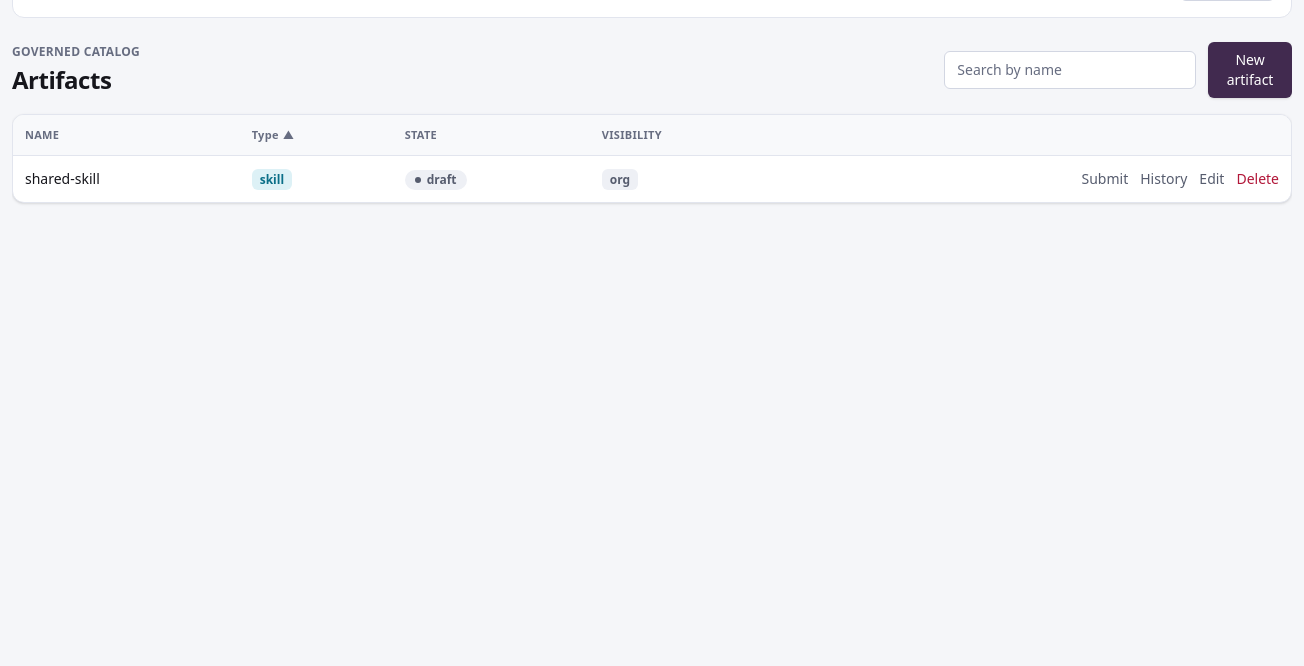
Test case: one grant reads as one grant
The width and height of the screenshot is (1304, 666).
Click the button with aria-label "edit shared-skill".
click(1212, 179)  # box [1199,169,1224,189]
(page scrolled)
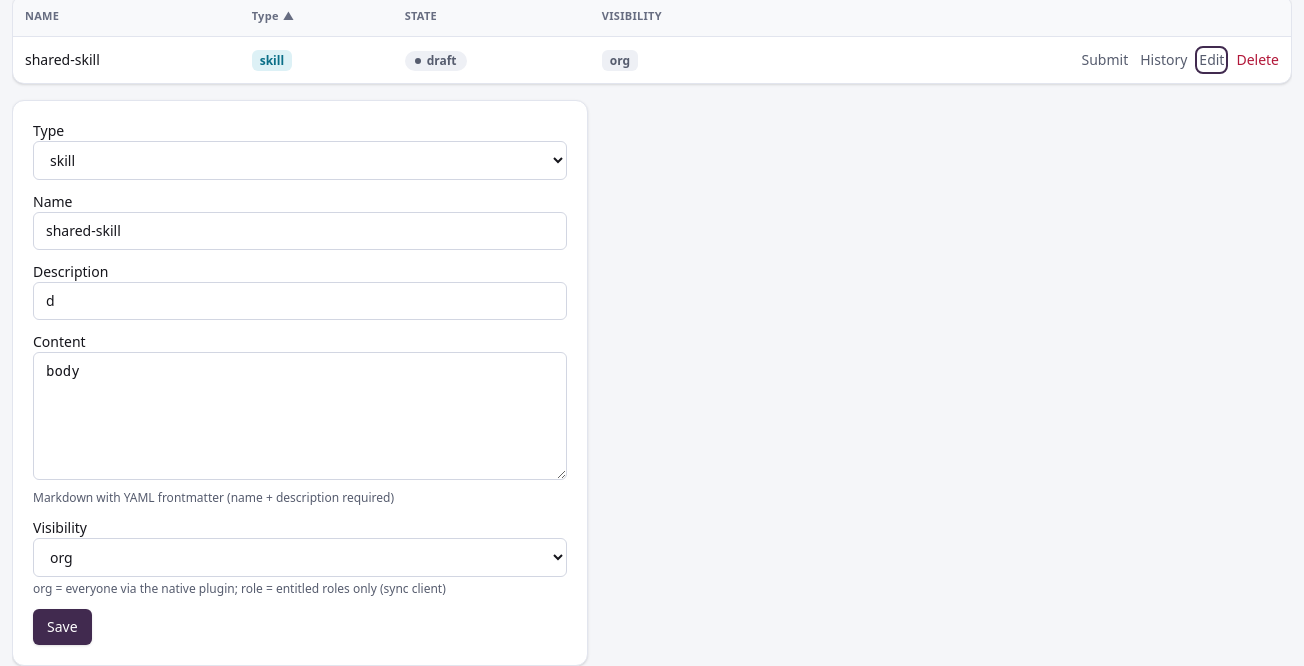
Select "role" in the dropdown labelled "Visibility" at (300, 557), box [33,538,567,577]
(page scrolled)
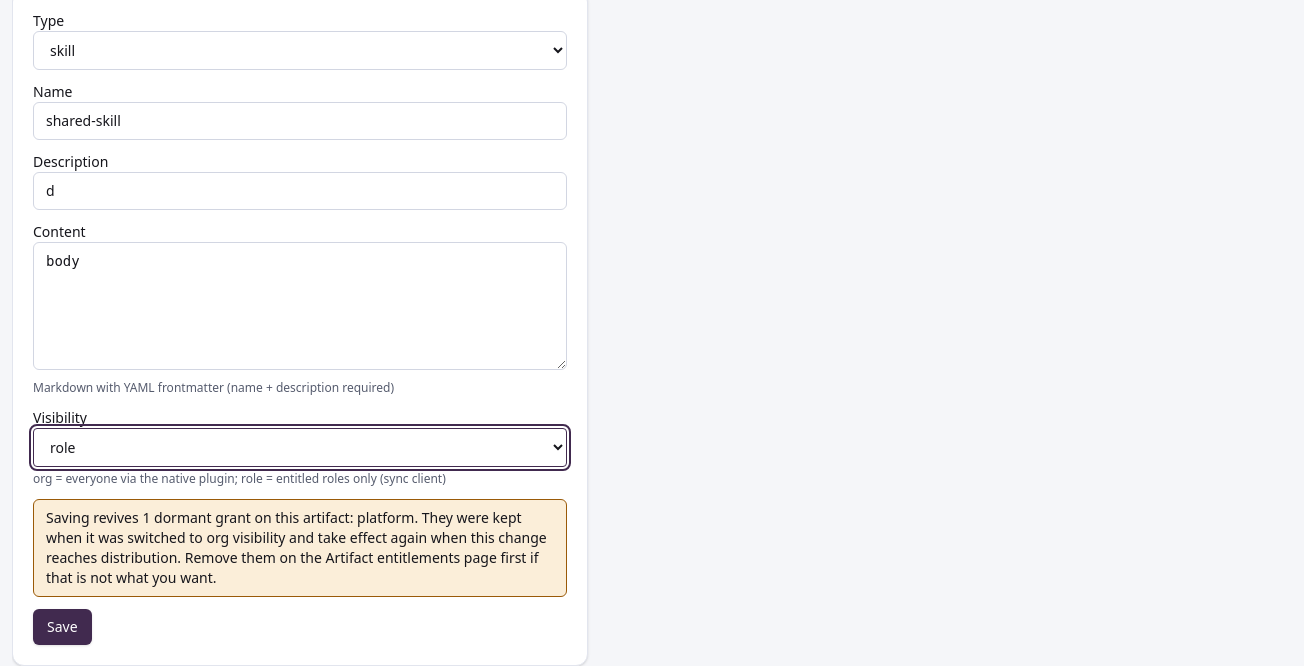
Expected: the message shows "1 dormant grant on this artifact", [33,499,567,597]
